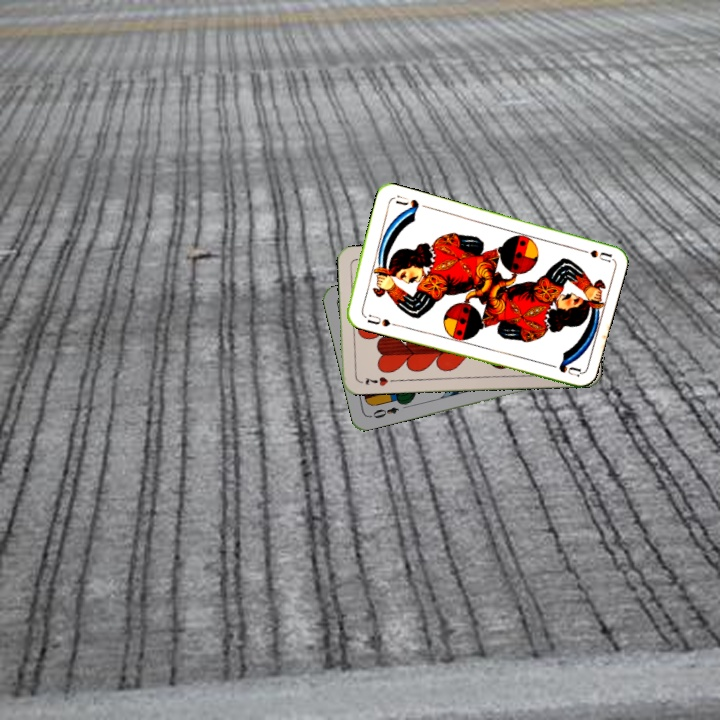EO: (366, 403, 401, 421)
H7: (361, 373, 390, 388)
SU: (572, 244, 613, 264), (363, 310, 398, 329)
